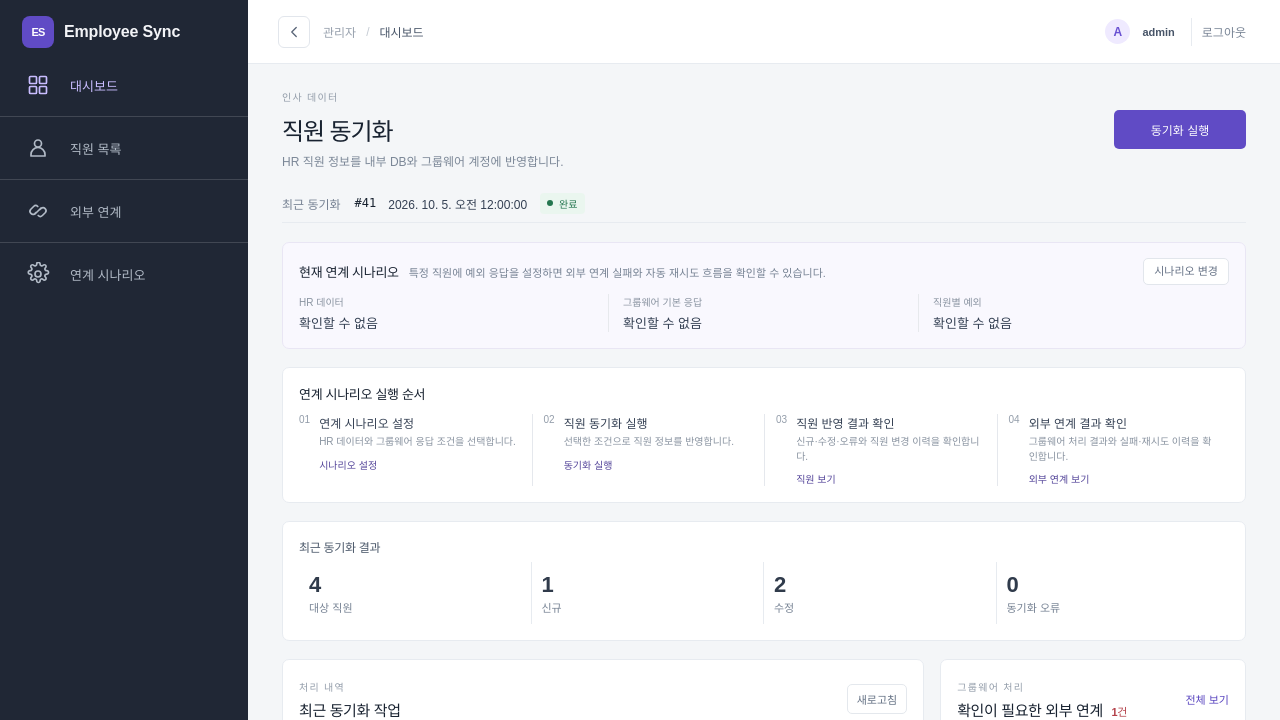
administrator shell and work dashboard › highlights failed external work without making demo settings a prerequisite
Expected: the heading "최근 동기화 작업" is shown, [299, 699, 401, 719]
Expected: the number of elements with class "summary-item" is 4, [299, 562, 532, 624]; [532, 562, 764, 624]; [764, 562, 996, 624]; [1006, 572, 1060, 614]
Click the link "연계 시나리오" at {"x": 86, "y": 274}, box [26, 262, 145, 286]
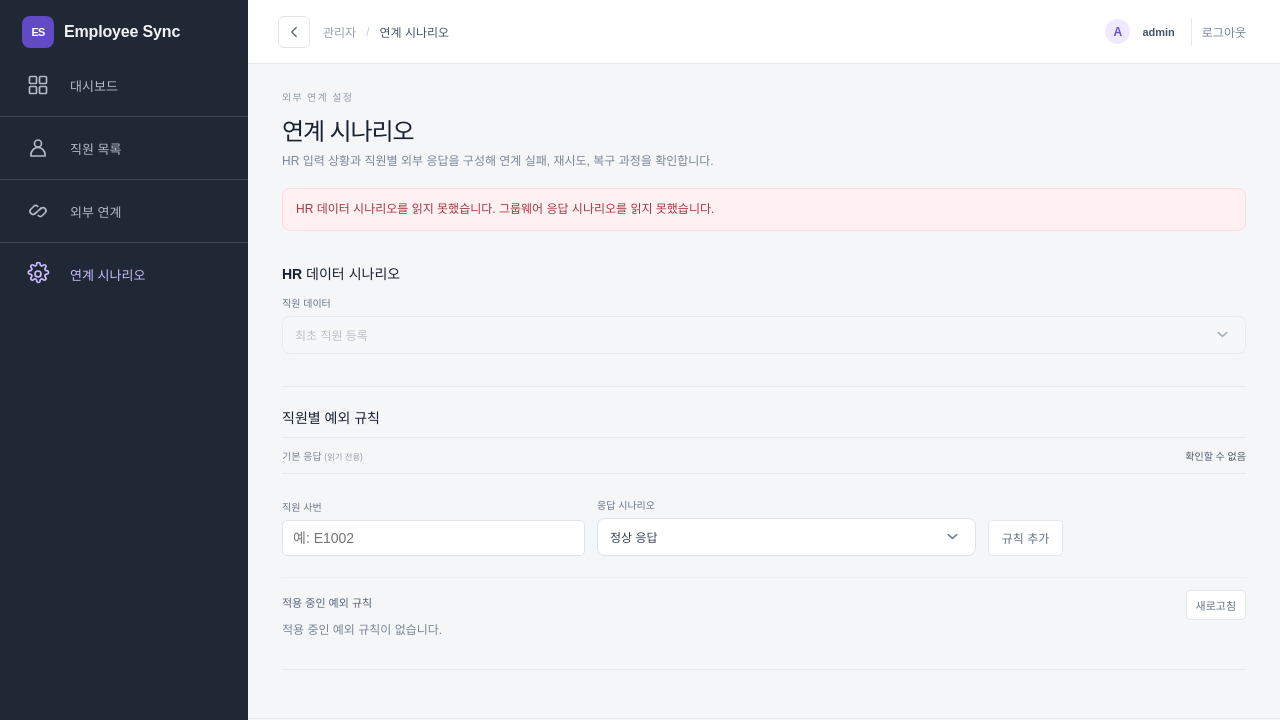
Expected: the message shows "읽지 못했습니다.", [296, 202, 714, 216]
Click the link with aria-label "대시보드로 이동" at {"x": 101, "y": 32}, box [22, 16, 180, 48]
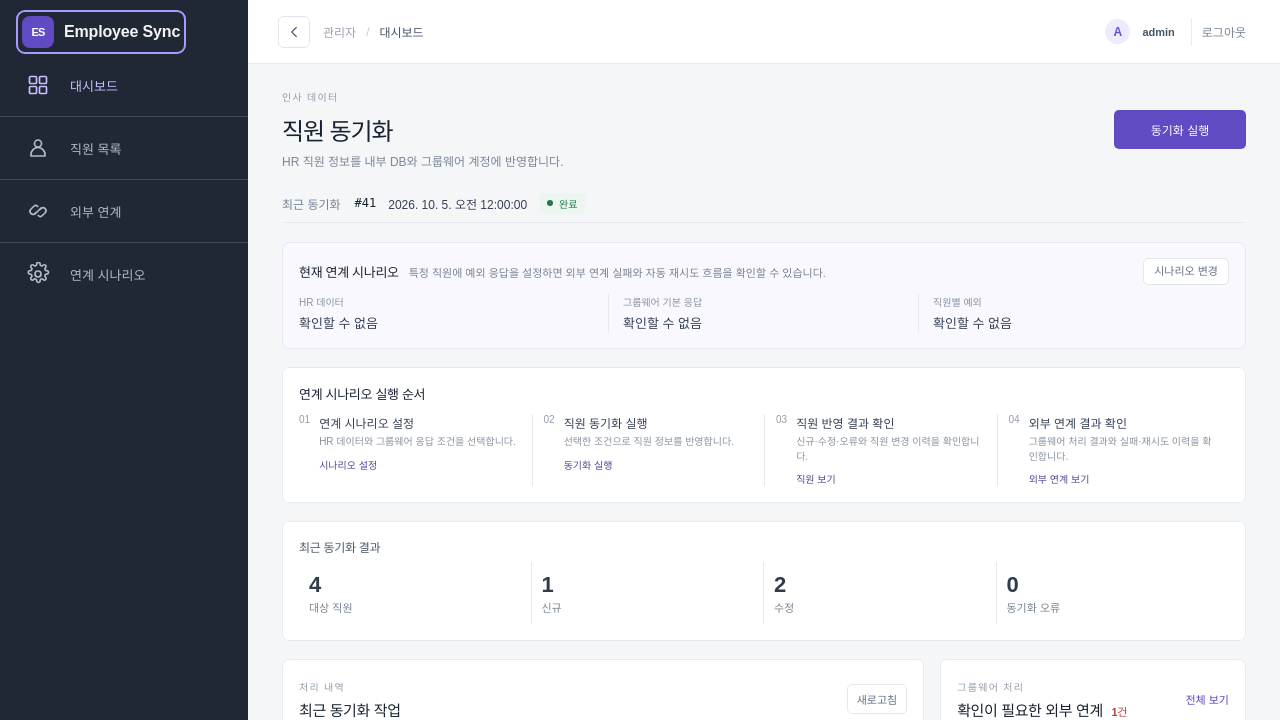
Expected: the button "동기화 실행" is enabled, [1114, 110, 1246, 148]
